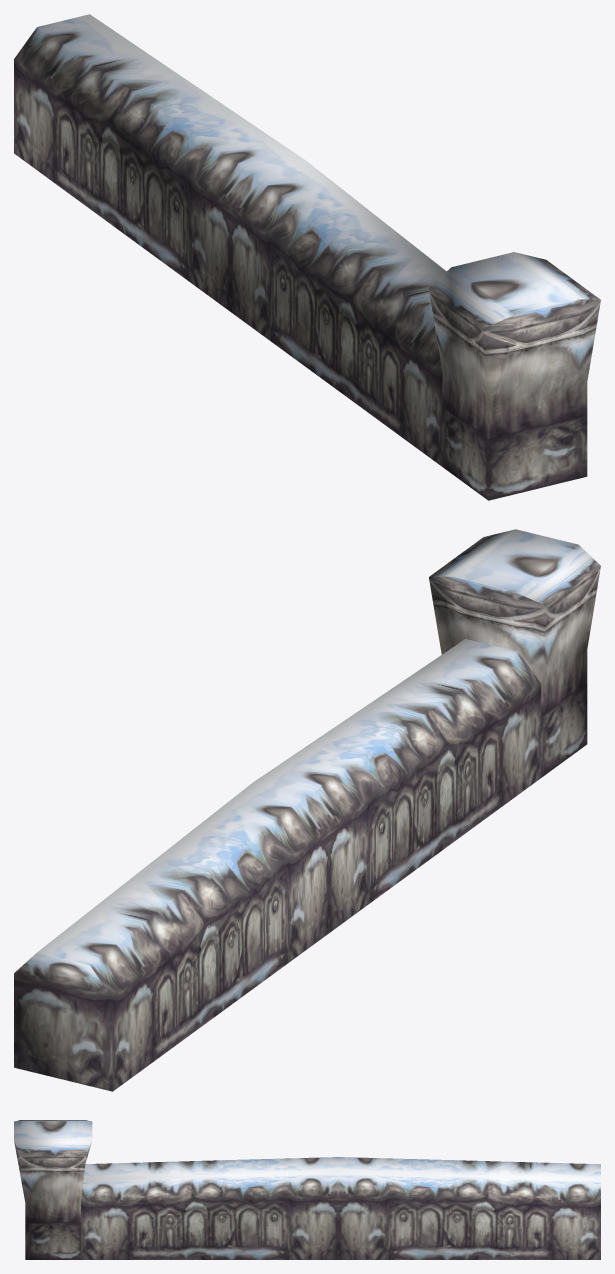
File: dunmoroghstonefence01.obj
The picture shows the model from 3 angles, top to bottom: view 1: azimuth 30°, elevation 25°; view 2: azimuth 150°, elevation 25°; view 3: azimuth 270°, elevation 25°; orthographic projection. The views are drawn at different scales.
Visible parts, largest first — view 1: dunmoroghstonefence01; view 2: dunmoroghstonefence01; view 3: dunmoroghstonefence01.
Part boxes in pixels (x1,y1,x2,y2): dunmoroghstonefence01: [14, 14, 600, 500]; dunmoroghstonefence01: [14, 529, 600, 1091]; dunmoroghstonefence01: [14, 1120, 600, 1259].
Bounding box in the file's own units: 0.8328 × 1.28 × 5.94.
Materials: 1 (1 with a texture image).
